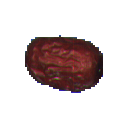gd: (17, 21, 119, 116)
